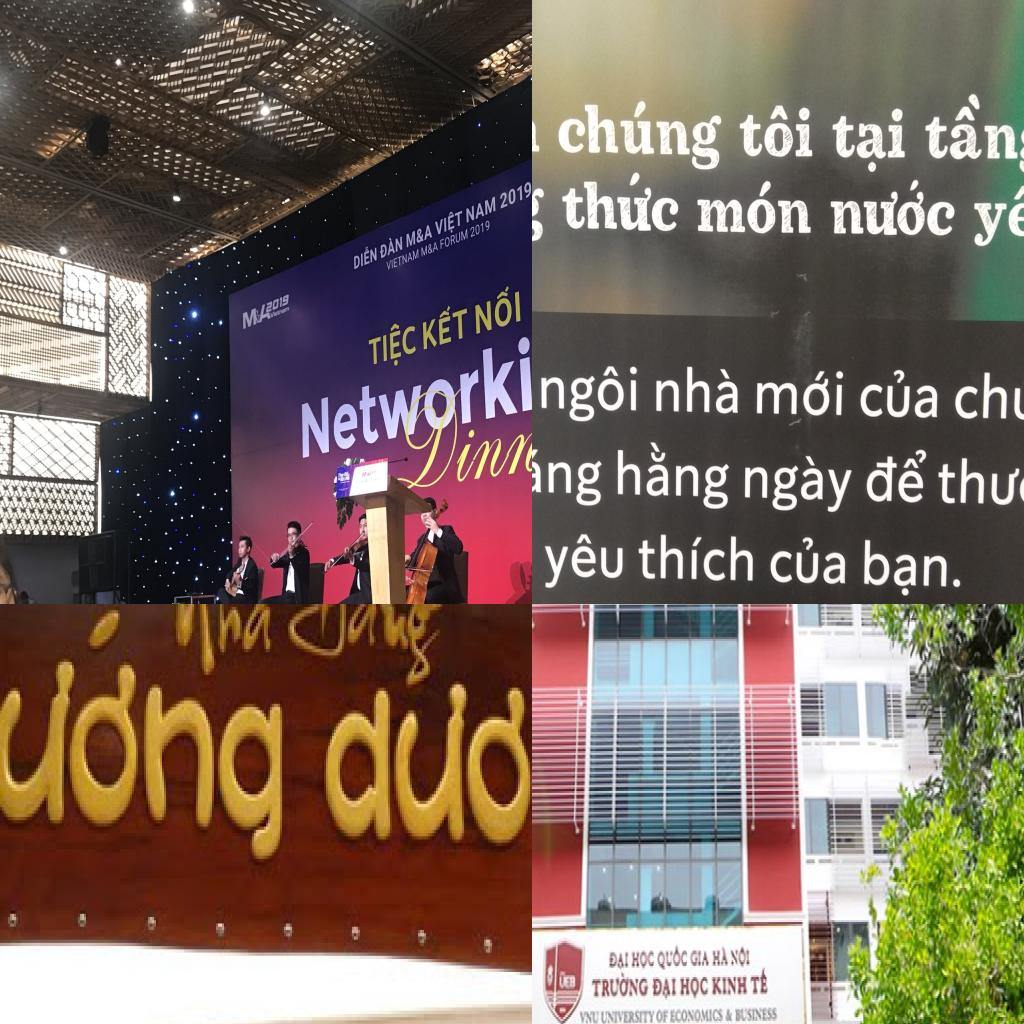text: (0, 604, 288, 872), (324, 681, 532, 900), (299, 307, 532, 459), (391, 363, 532, 495), (286, 604, 454, 690), (556, 96, 724, 172), (154, 604, 286, 684), (921, 92, 1024, 176), (615, 439, 732, 511), (558, 167, 680, 235), (829, 172, 956, 237), (742, 451, 858, 517), (694, 178, 813, 235), (637, 532, 755, 585), (935, 450, 1024, 520), (863, 536, 962, 598), (538, 363, 640, 423), (830, 108, 906, 176), (952, 367, 1024, 436), (541, 532, 625, 591), (857, 366, 940, 422), (654, 363, 740, 416), (755, 369, 846, 419), (737, 102, 813, 158), (767, 535, 847, 588), (532, 447, 602, 506), (864, 444, 929, 506), (969, 182, 1024, 251), (364, 314, 417, 372), (418, 297, 470, 355), (474, 280, 523, 338), (589, 970, 650, 998), (670, 1001, 726, 1024), (599, 1003, 657, 1024), (731, 1000, 781, 1024), (432, 205, 464, 239), (499, 178, 532, 210), (464, 194, 498, 225), (242, 300, 272, 332), (350, 241, 378, 272), (680, 971, 708, 1002), (709, 975, 750, 996), (656, 943, 689, 968), (386, 248, 420, 272), (378, 231, 404, 261), (406, 222, 434, 249), (651, 975, 678, 1002), (439, 227, 469, 251), (730, 941, 753, 970), (749, 966, 769, 998), (630, 948, 656, 972), (606, 949, 631, 973), (266, 292, 290, 315), (690, 945, 712, 969), (469, 218, 491, 240), (576, 1005, 600, 1024), (712, 943, 730, 968), (420, 240, 440, 259), (557, 974, 576, 992), (270, 304, 291, 320), (654, 1007, 671, 1024), (361, 470, 367, 478)
